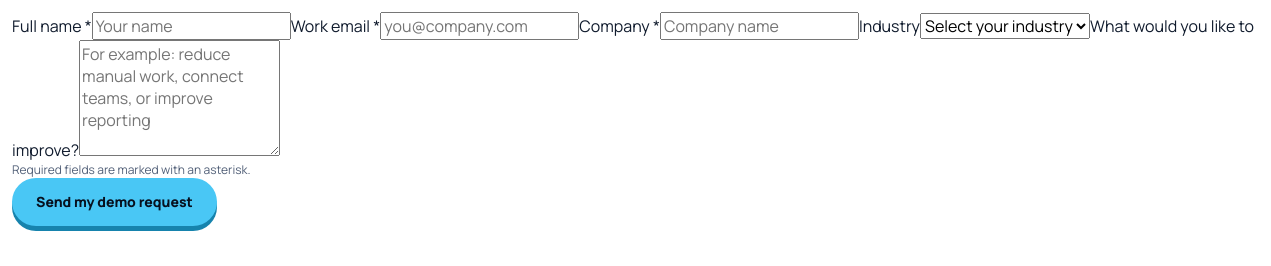
Test: ContactForm › shows a recoverable error when the request fails
In the field labelled "Full name *": (191, 26) [92,12,291,40], type "Ada Lovelace"
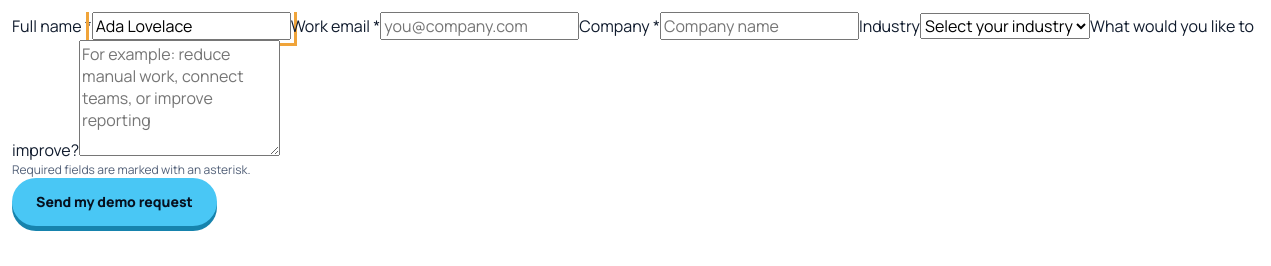
In the field labelled "Work email *": (480, 26) [380,12,579,40], type "ada@example.com"
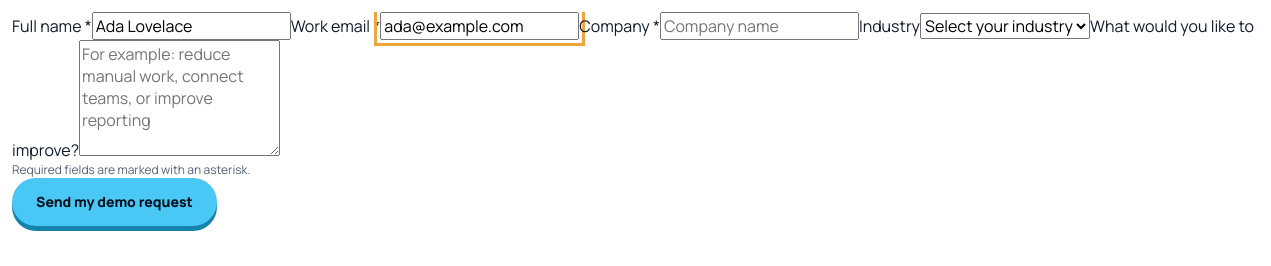
In the field labelled "Company *": (760, 26) [660,12,859,40], type "UNU Labs"
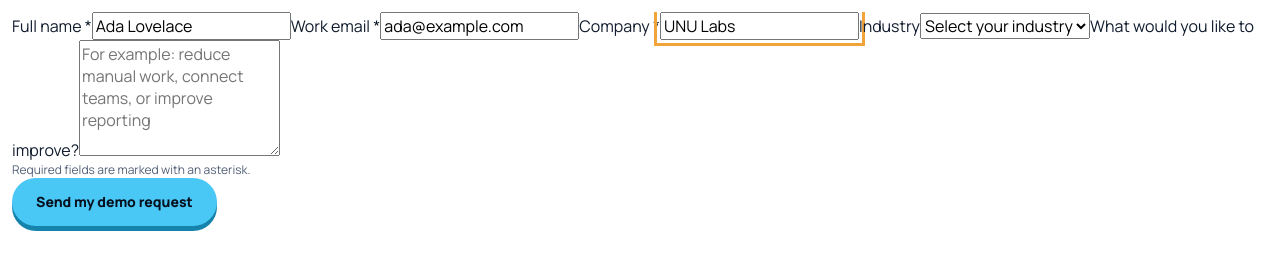
Click the button "Send my demo request": (114, 202) [12,178,217,226]
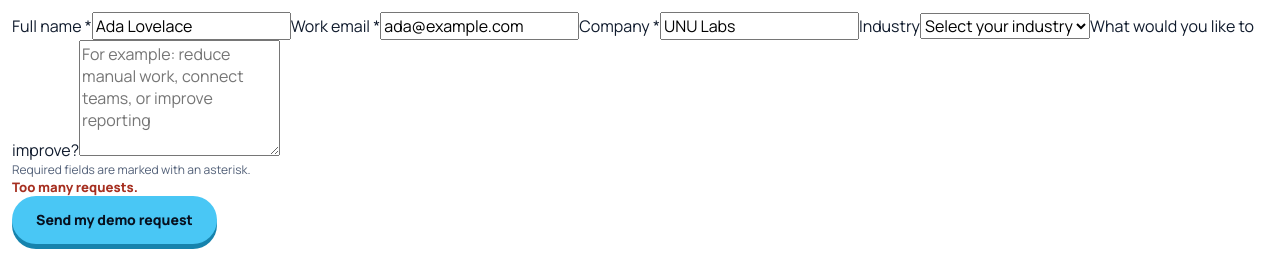
Result: the message reads "Too many requests." at [12,178,138,196]
